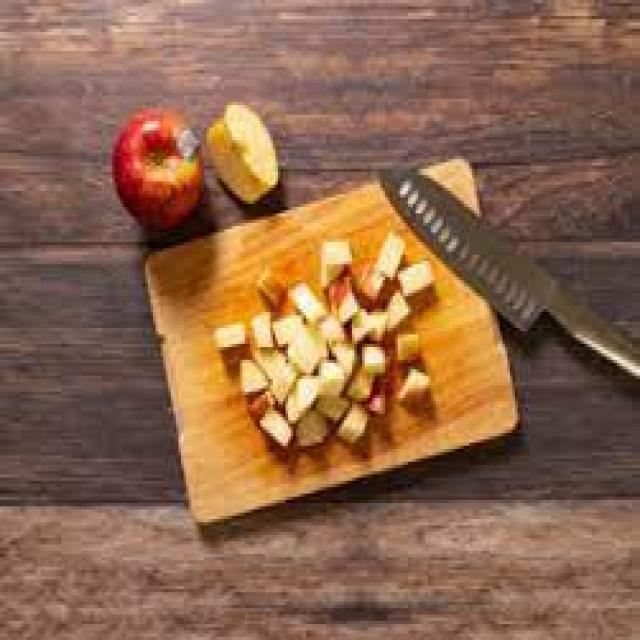Apple: (114, 117, 203, 226), (206, 101, 282, 210)
